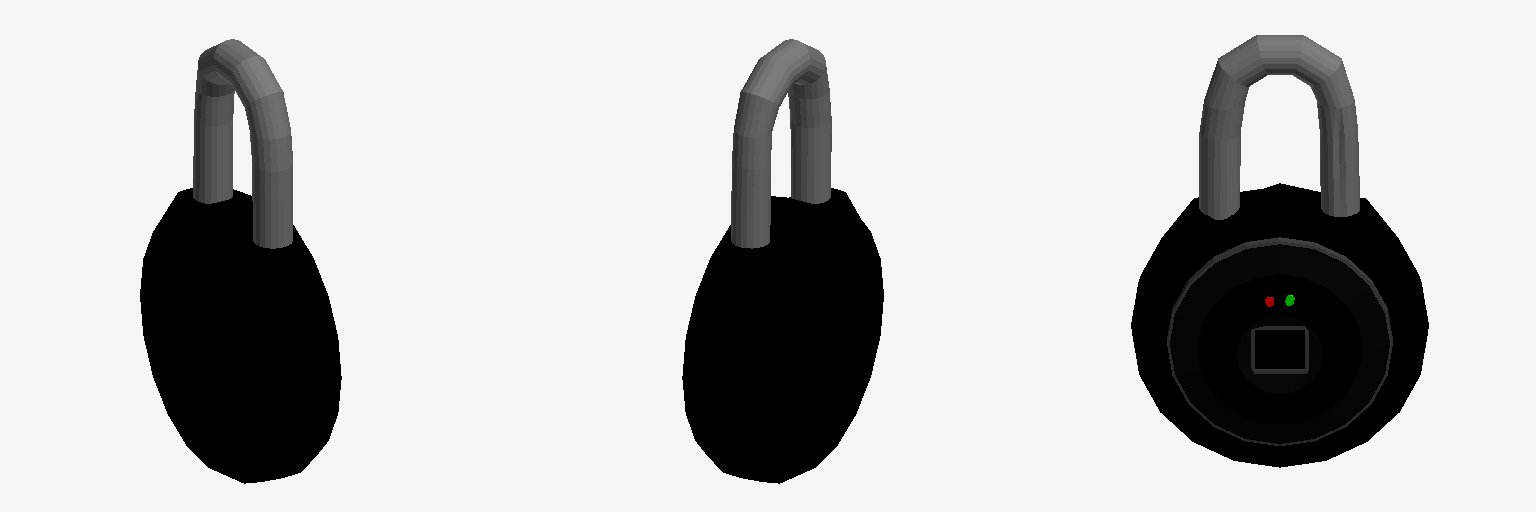
File: Candado.obj
The picture shows the model from 3 angles: view 1: azimuth 30°, elevation 25°; view 2: azimuth 150°, elevation 25°; view 3: azimuth 270°, elevation 25°; orthographic projection.
Parts seen in each view (by area): view 1: pCylinder1, pCylinder6; view 2: pCylinder1, pCylinder6; view 3: pCylinder1, pCylinder6.
Part boxes in pixels (bbox=[...]): pCylinder1: bbox=[140, 188, 341, 483]; pCylinder6: bbox=[193, 39, 292, 248]; pCylinder1: bbox=[682, 188, 883, 483]; pCylinder6: bbox=[731, 39, 831, 248]; pCylinder1: bbox=[1131, 183, 1428, 467]; pCylinder6: bbox=[1199, 35, 1359, 219].
Bounding box in the file's own units: 0.8205 × 3.44 × 2.2.